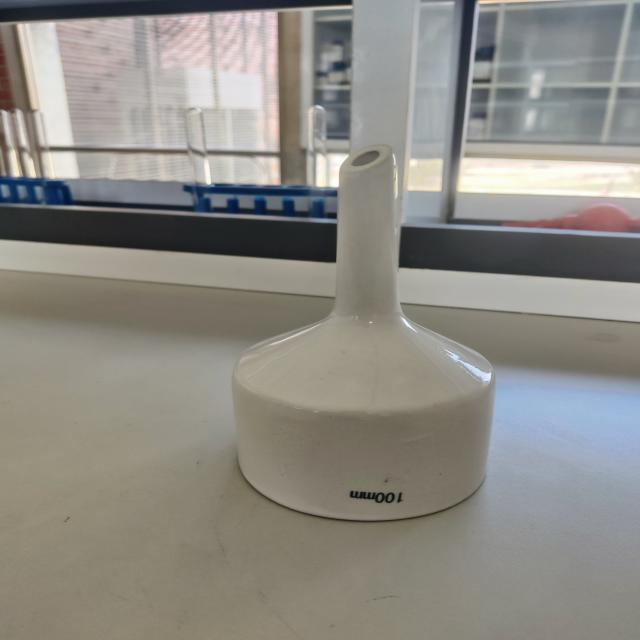Buchner_Funnel: (178, 112, 546, 560)
